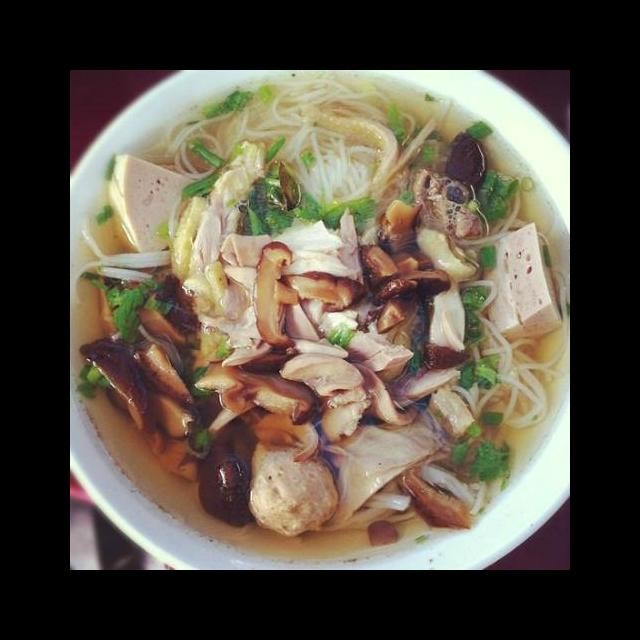bun: (172, 83, 410, 191), (444, 268, 570, 431), (320, 454, 494, 538), (71, 214, 177, 309)
bun moc: (90, 98, 568, 570)
thit ga: (267, 288, 470, 440), (167, 136, 272, 368), (315, 404, 456, 528), (215, 203, 369, 288)
vien moc: (243, 432, 340, 540)
